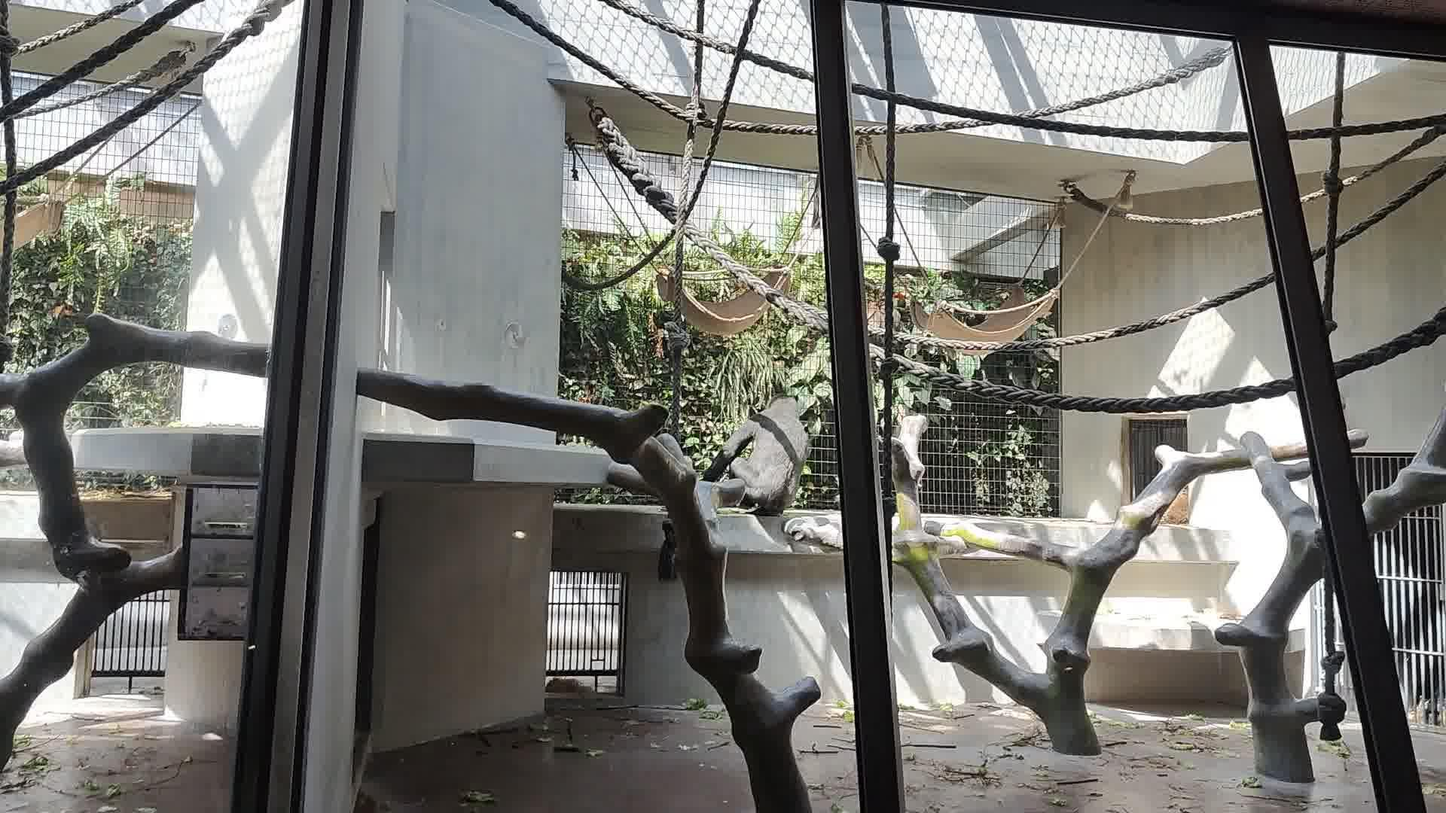boar: (703, 397, 809, 517)
